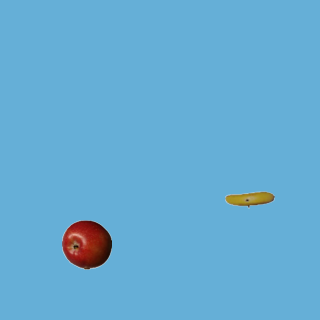Apple Braeburn: (61, 219, 111, 269)
Banana: (224, 174, 274, 224)
